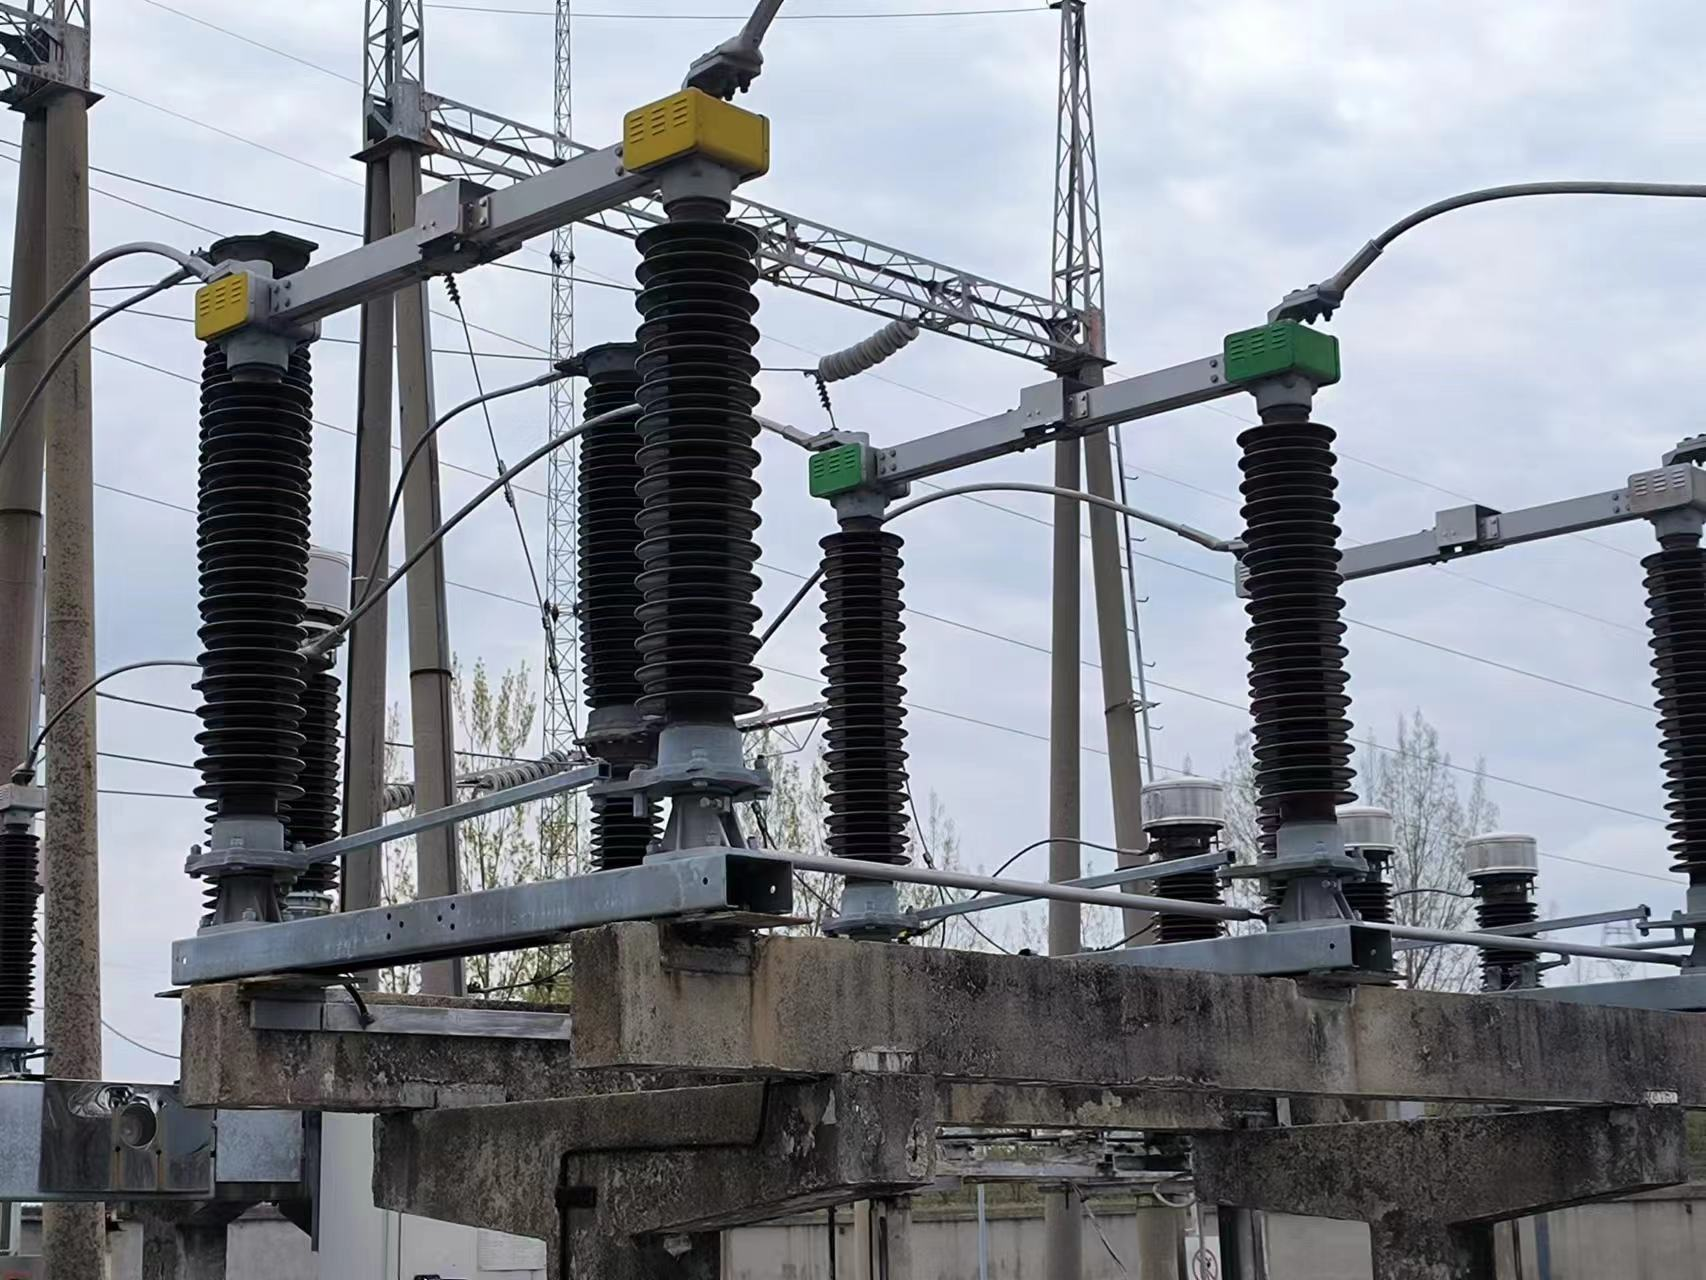Disconnecting link: (172, 38, 776, 846), (805, 307, 1352, 941)
